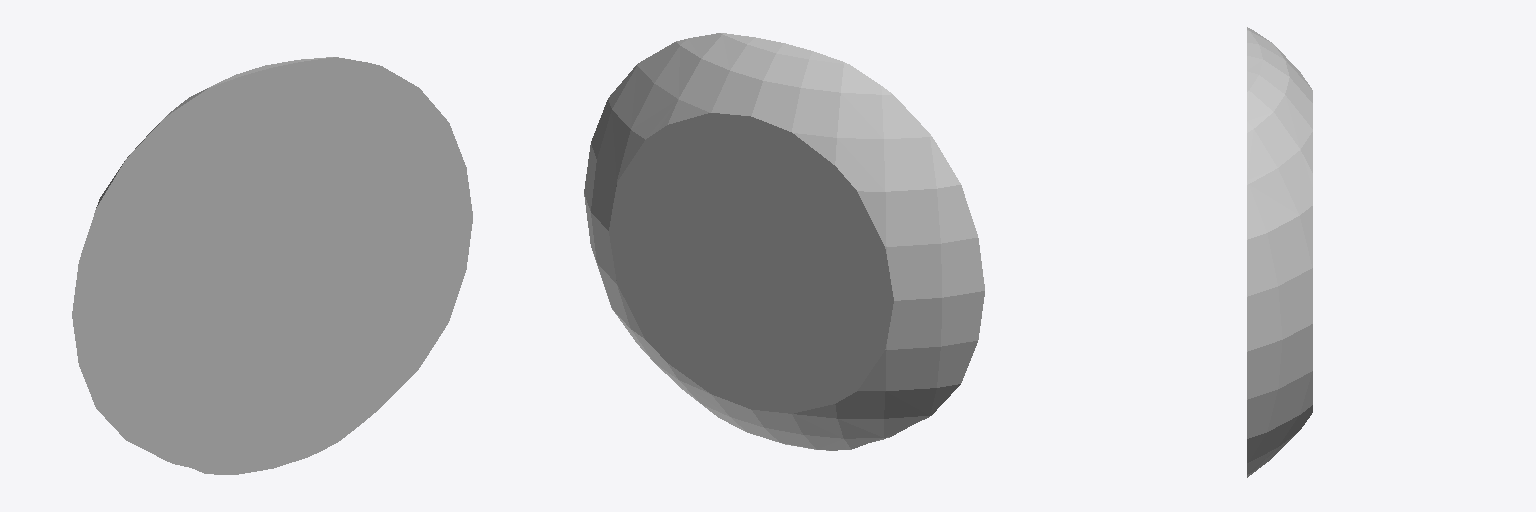
File: apple_slice_02.obj
3 views of the same model, side by side, from view 1: azimuth 30°, elevation 25°; view 2: azimuth 150°, elevation 25°; view 3: azimuth 270°, elevation 25° (orthographic).
Parts seen in each view (by area): view 1: Apple.Slices.001_Sphere.002; view 2: Apple.Slices.001_Sphere.002; view 3: Apple.Slices.001_Sphere.002.
Part boxes in pixels (x1,y1,x2,y2): Apple.Slices.001_Sphere.002: (72,57,472,474); Apple.Slices.001_Sphere.002: (584,33,984,450); Apple.Slices.001_Sphere.002: (1247,27,1312,477).
Bounding box in the file's own units: 1.54 × 1.47 × 0.2212.